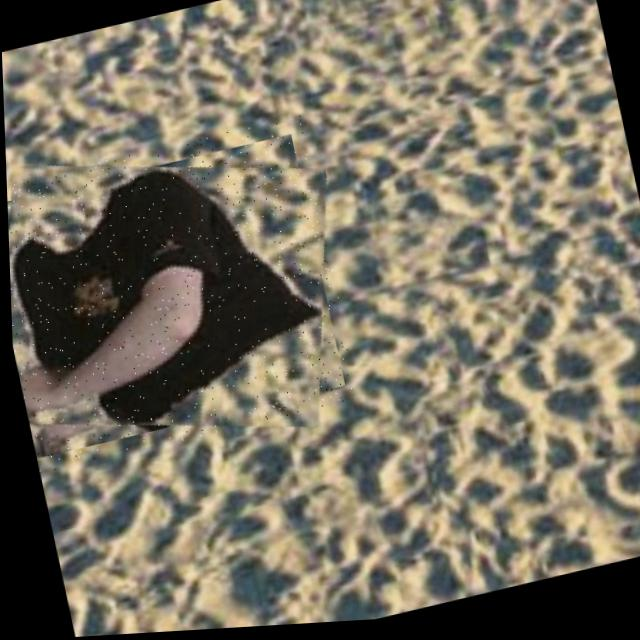Person in Rubble: (4, 115, 359, 475)
